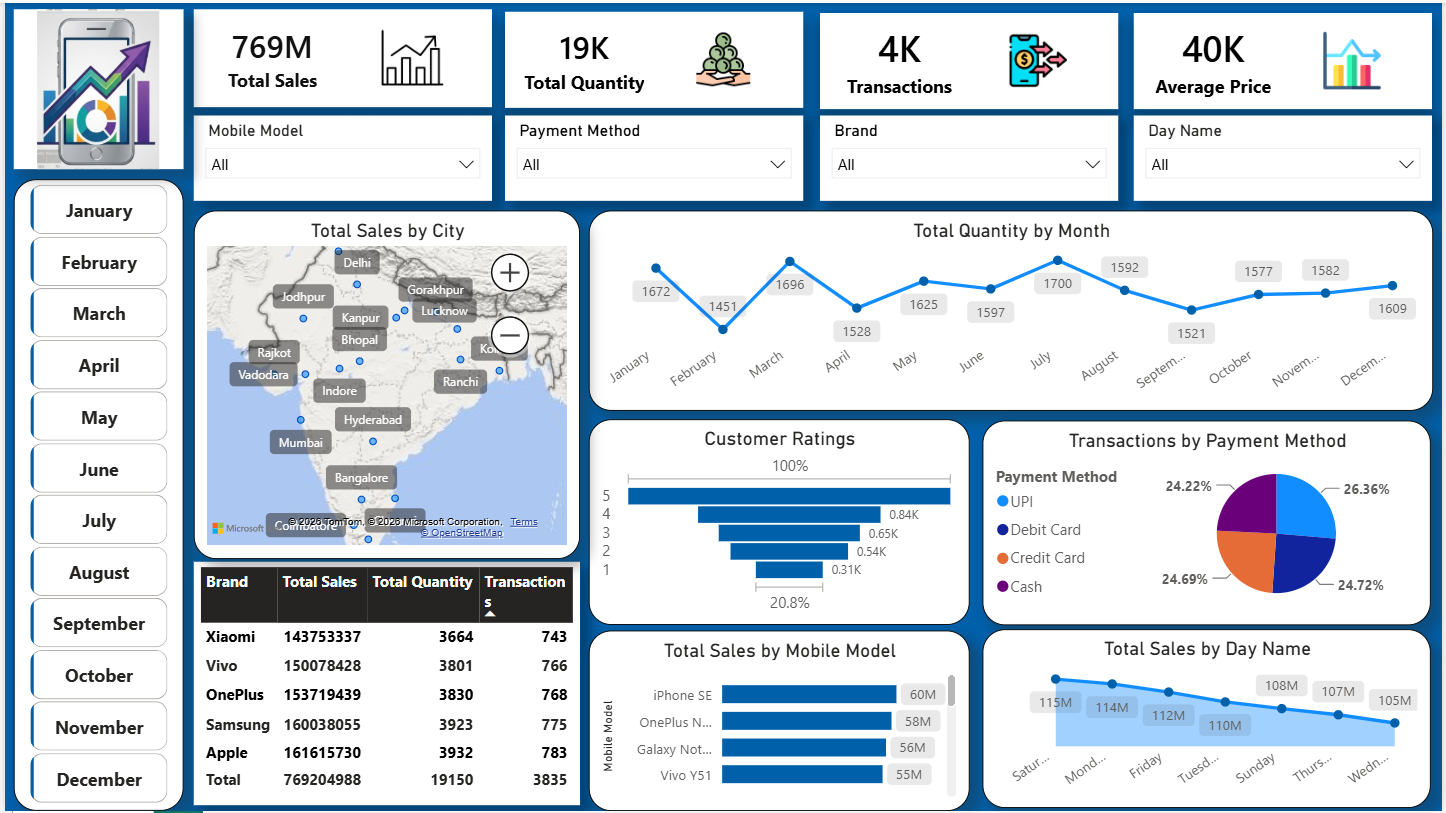

What the dashboard file says about the page in this screenshot:
{"tool":"powerbi","page":{"name":"DASHBOARD","canvas":[1280,720],"ordinal":0},"visuals":[{"type":"shape","box":[7.2,156.8,150.8,562.2],"z":0},{"type":"advancedSlicerVisual","fields":{"Values":["Sales Data.Date.Variation.Date Hierarchy.Month"]},"box":[18.1,156.8,132.7,561],"z":1000},{"type":"cardVisual","fields":{"Data":["Sales Data.Total Sales"]},"box":[167.7,6,265.4,86.9],"z":2000},{"type":"cardVisual","fields":{"Data":["Sales Data.Total Quantity"]},"box":[445.2,7.5,265.4,85.7],"z":3000},{"type":"cardVisual","fields":{"Data":["Sales Data.Average Price"]},"box":[1005,8.7,265.4,85.7],"z":4000},{"type":"cardVisual","fields":{"Data":["Sales Data.Transactions"]},"box":[726.3,8.7,265.4,85.7],"z":5000},{"type":"slicer","fields":{"Values":["Sales Data.Mobile Model"]},"box":[167.7,100.1,265.4,76],"z":6000},{"type":"slicer","fields":{"Values":["Sales Data.Payment Method"]},"box":[445.2,100.1,265.4,76],"z":7000},{"type":"slicer","fields":{"Values":["Sales Data.Brand"]},"box":[726.3,100.1,265.4,76],"z":8000},{"type":"slicer","fields":{"Values":["Sales Data.Day Name"]},"box":[1005,100.1,265.4,76],"z":9000},{"type":"tableEx","fields":{"Values":["Sales Data.Brand","Sales Data.Total Sales","Sales Data.Total Quantity","Sales Data.Transactions"]},"box":[167.7,497.1,343.8,217.2],"z":10000},{"type":"lineChart","fields":{"Category":["Sales Data.Date.Variation.Date Hierarchy.Month","Sales Data.Date.Variation.Date Hierarchy.Day"],"Y":["Sales Data.Total Quantity"]},"box":[520,184.6,751.6,178.6],"z":11000},{"type":"clusteredBarChart","fields":{"Category":["Sales Data.Mobile Model"],"Y":["Sales Data.Total Sales"]},"box":[520,558.6,339,160.5],"z":12000},{"type":"pieChart","fields":{"Category":["Sales Data.Payment Method"],"Y":["Sales Data.Transactions"]},"box":[871.1,371.6,399.3,182.2],"z":13000},{"type":"funnel","title":"Customer Ratings","fields":{"Category":["Sales Data.Customer Ratings"],"Y":["CountNonNull(Sales Data.Customer Ratings)"]},"box":[520,370.4,339,183.4],"z":14000},{"type":"areaChart","fields":{"Y":["Sales Data.Total Sales"],"Category":["Sales Data.Day Name"]},"box":[871.1,557.4,399.3,159.3],"z":15000},{"type":"map","fields":{"Category":["Sales Data.City"]},"box":[167.7,184.6,343.8,310],"z":16000},{"type":"image","box":[7.2,6,150.8,142.4],"z":17000}]}

Visuals, with their boxes in screenshot pixels (x1, y1, x2, y2), scaled from the page's 1280x720 canvas onto the 1446x813 screenshot:
shape: 8, 177, 178, 812
advancedSlicerVisual - Sales Data.Date.Variation.Date Hierarchy.Month: 20, 177, 170, 811
cardVisual - Sales Data.Total Sales: 189, 7, 489, 105
cardVisual - Sales Data.Total Quantity: 503, 8, 803, 105
cardVisual - Sales Data.Average Price: 1135, 10, 1435, 107
cardVisual - Sales Data.Transactions: 820, 10, 1120, 107
slicer - Sales Data.Mobile Model: 189, 113, 489, 199
slicer - Sales Data.Payment Method: 503, 113, 803, 199
slicer - Sales Data.Brand: 820, 113, 1120, 199
slicer - Sales Data.Day Name: 1135, 113, 1435, 199
tableEx - Sales Data.Brand x Sales Data.Total Sales: 189, 561, 578, 807
lineChart - Sales Data.Date.Variation.Date Hierarchy.Month x Sales Data.Date.Variation.Date Hierarchy.Day: 587, 208, 1437, 410
clusteredBarChart - Sales Data.Mobile Model x Sales Data.Total Sales: 587, 631, 970, 812
pieChart - Sales Data.Payment Method x Sales Data.Transactions: 984, 420, 1435, 625
"Customer Ratings" funnel: 587, 418, 970, 625
areaChart - Sales Data.Total Sales x Sales Data.Day Name: 984, 629, 1435, 809
map - Sales Data.City: 189, 208, 578, 558
image: 8, 7, 178, 168
